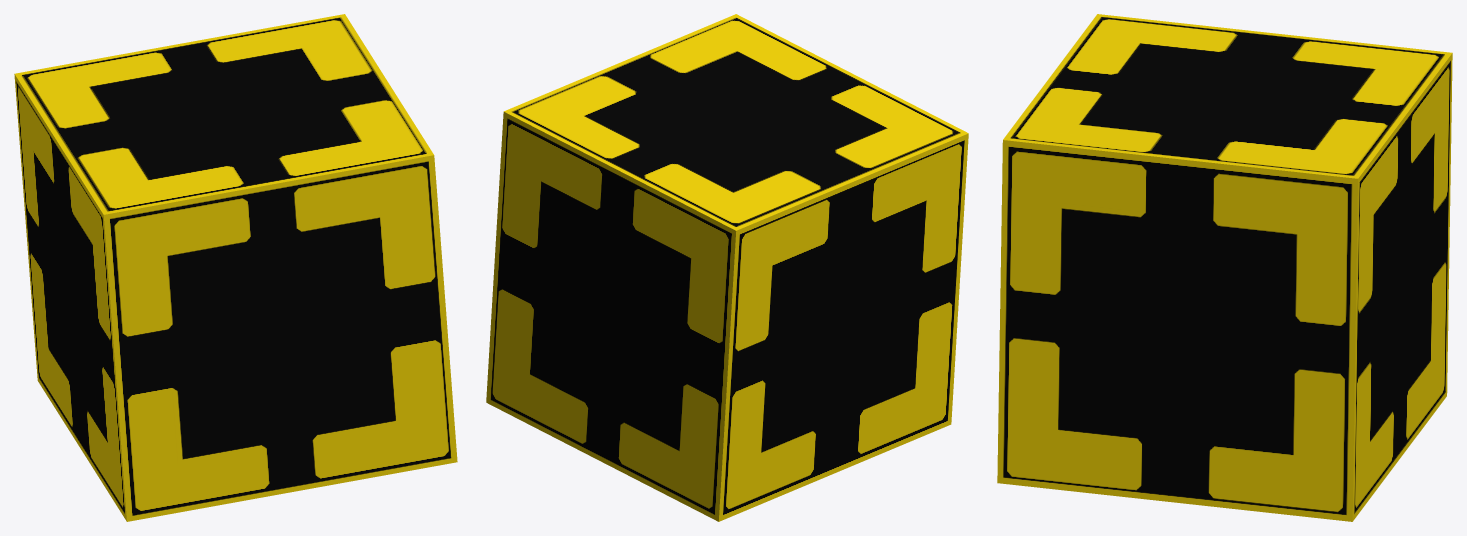
3 renders of one model, left to right at view 1: azimuth 30°, elevation 25°; view 2: azimuth 150°, elevation 25°; view 3: azimuth 270°, elevation 25°, orthographic. The views are drawn at different scales.
Parts seen in each view (by area): view 1: Object Highlight Box(Clone); view 2: Object Highlight Box(Clone); view 3: Object Highlight Box(Clone).
Boxes of the visible parts, x1,y1,x2,y2 form: Object Highlight Box(Clone): (14, 14, 457, 521); Object Highlight Box(Clone): (486, 14, 968, 521); Object Highlight Box(Clone): (997, 14, 1452, 521).
Bounding box in the file's own units: 0.2582 × 0.2144 × 0.2477.
Materials: 1 (1 with a texture image).
